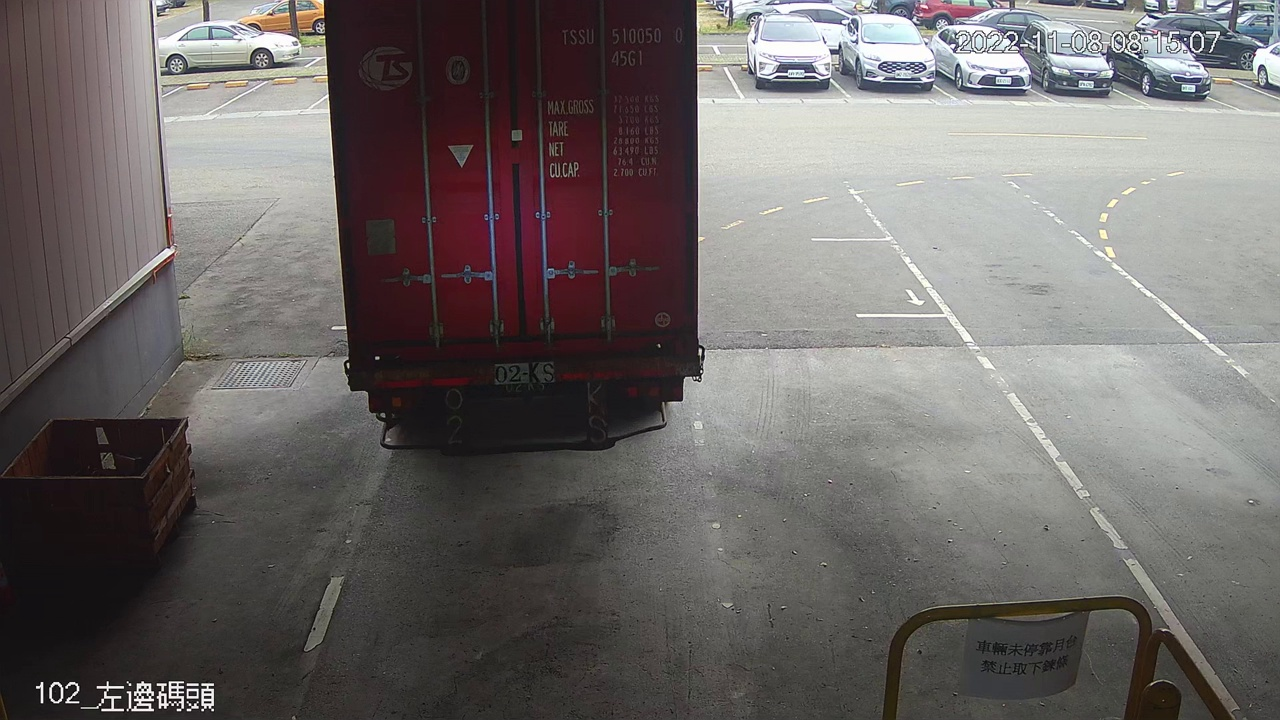container: (554, 19, 688, 72)
